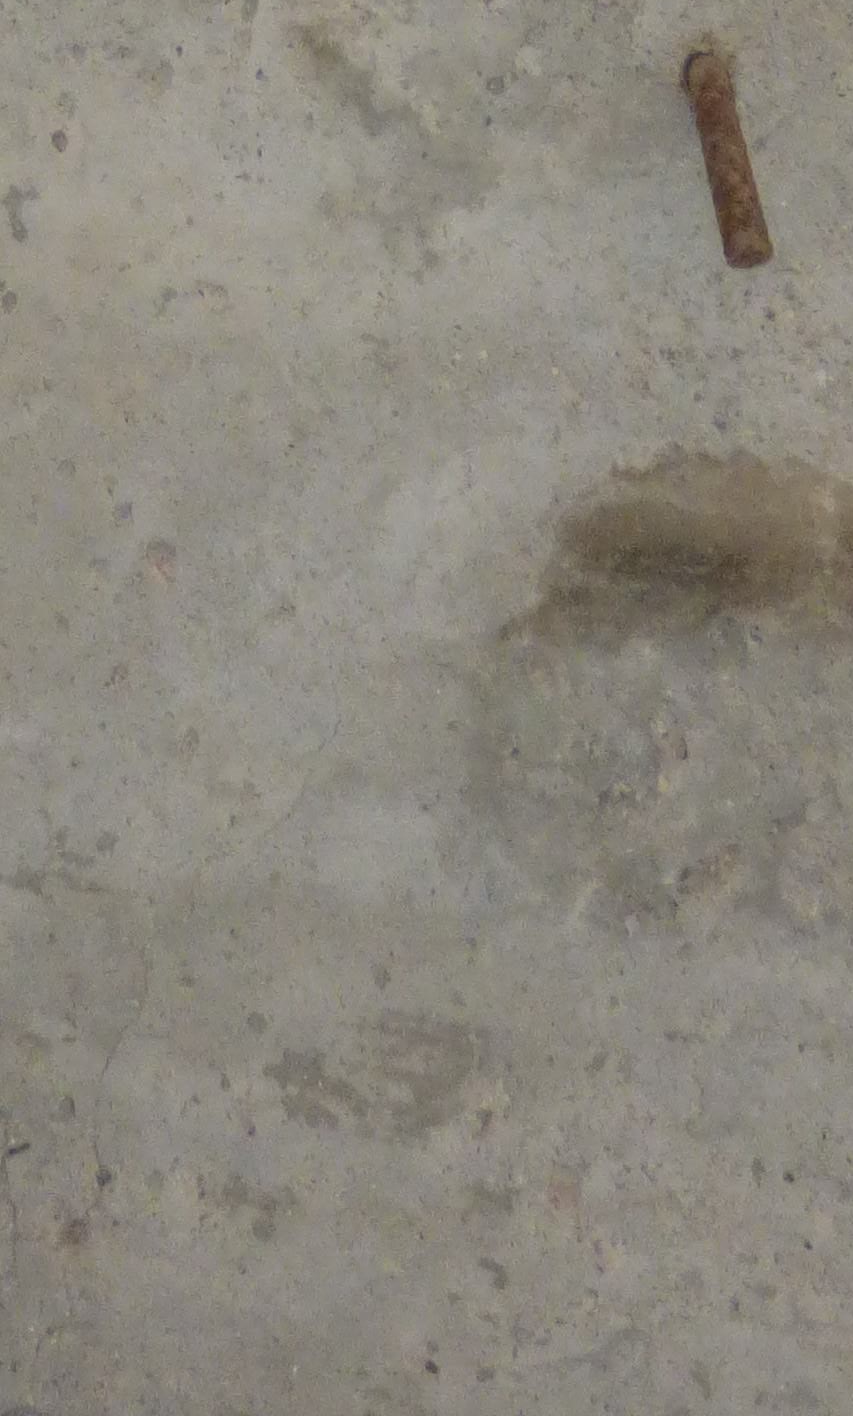Exposed reinforcement: (687, 54, 775, 270)
